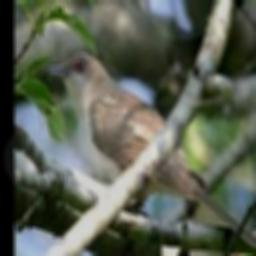Cuckoo: (45, 52, 256, 256)
